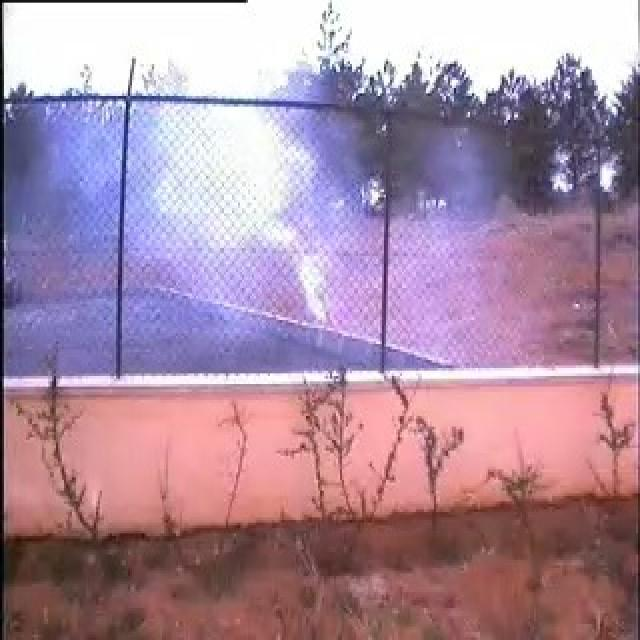smoke: (57, 93, 360, 370)
